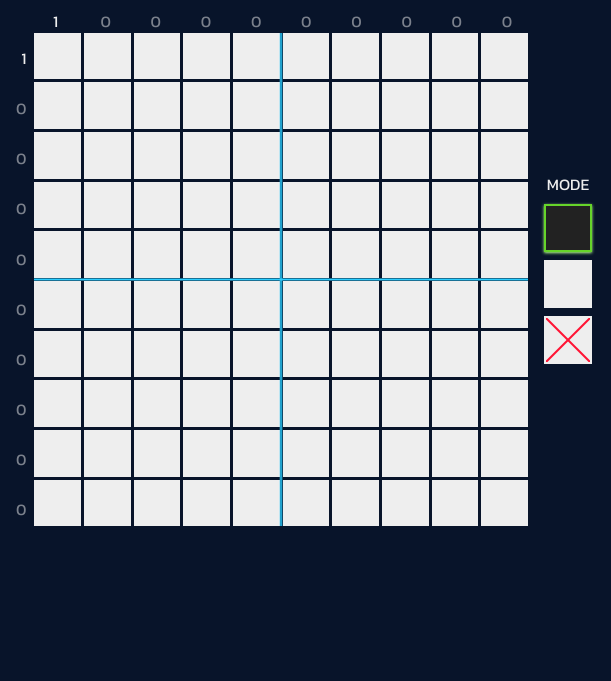
Test: Next puzzle link tests: › Where next puzzle is available: › It should show a button to access next puzzle where one is available
The image size is (611, 681).
Press the mouse on the cell titled "1,1": x=58, y=56 [34,33,81,79]
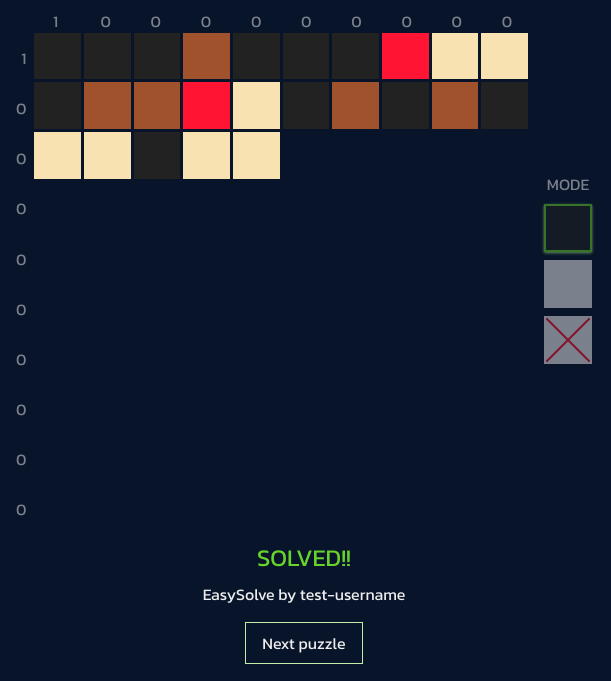
expect the button "Next puzzle" is shown: met, box [245,622,363,664]
